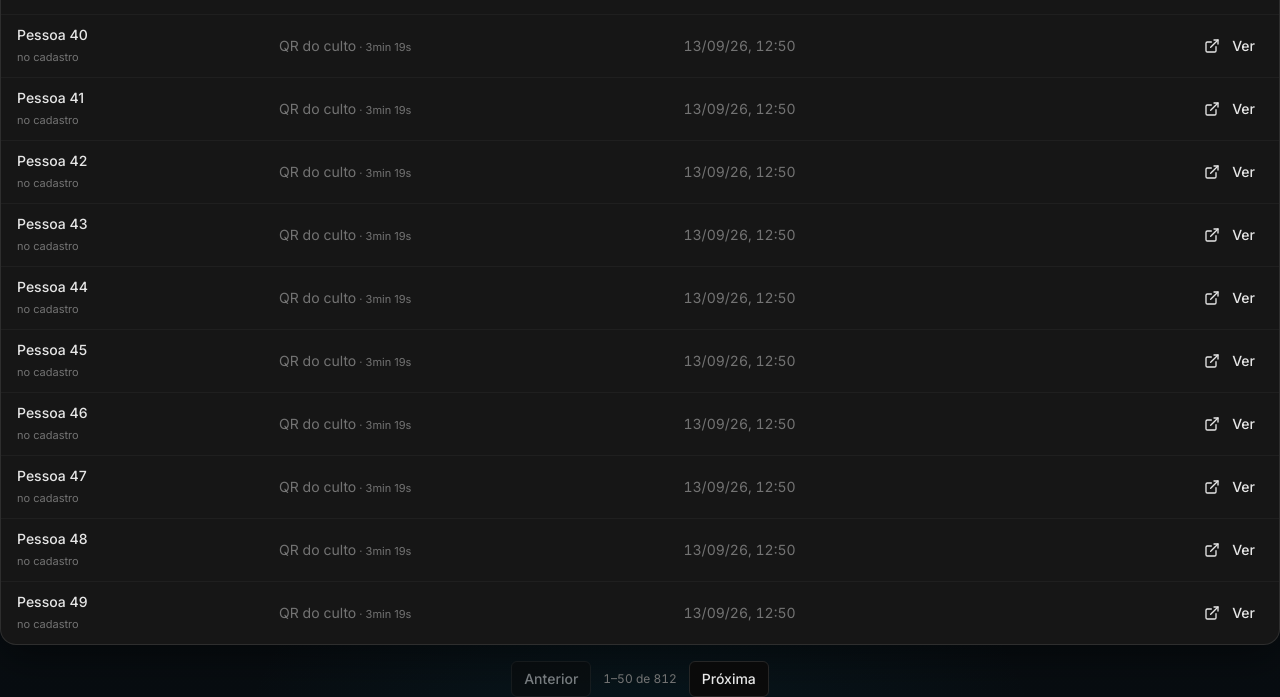
Scenario: AbaRespostas · o total é do banco, a página tem 50 › navega e mostra em que pedaço a pessoa está
This screenshot has width=1280, height=697.
(page scrolled)
Expected: the button "Anterior" is disabled, x1=511 y1=661 x2=591 y2=696
Click the button "Próxima" at (729, 679), box x1=689 y1=661 x2=769 y2=696
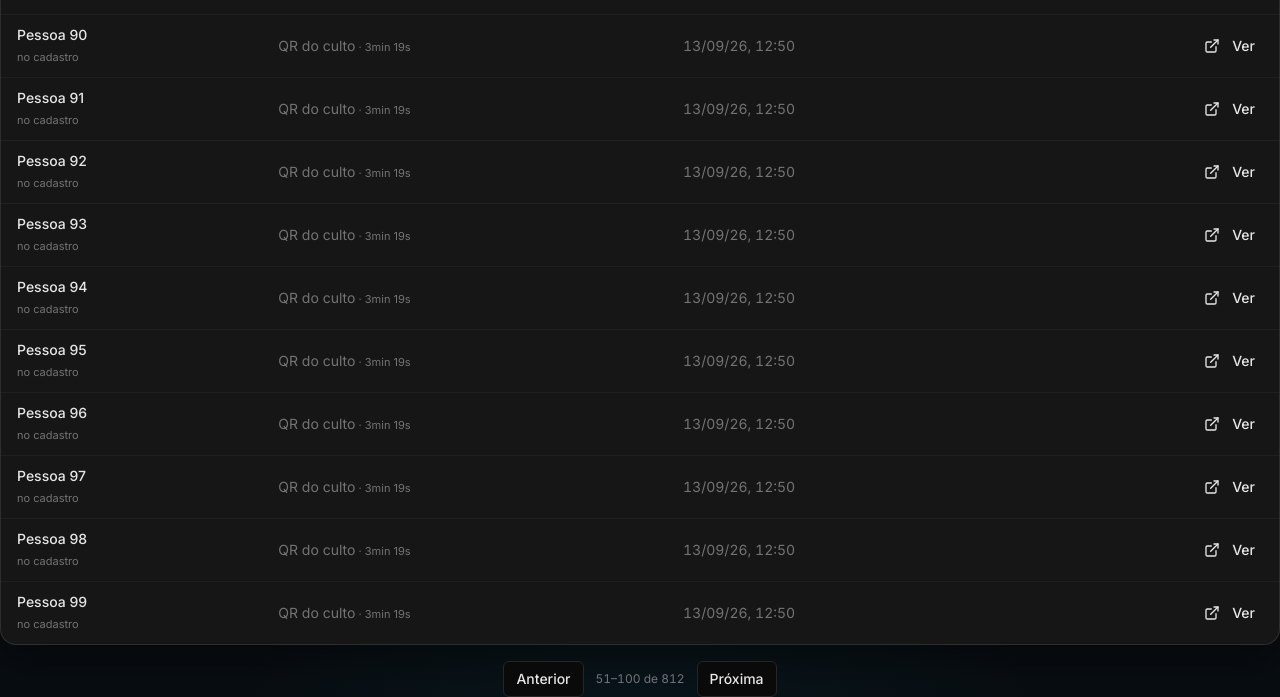
Result: the text "51–100 de 812" is shown at x1=596 y1=671 x2=684 y2=687
Result: the button "Anterior" is enabled at x1=503 y1=661 x2=584 y2=696
